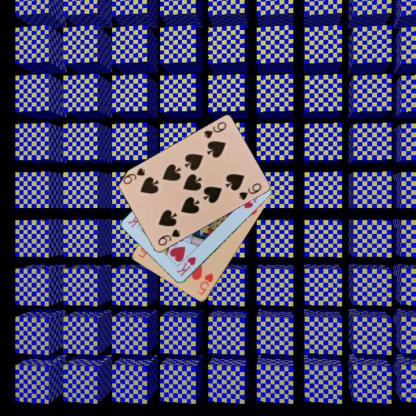5h: (195, 271, 214, 296)
9s: (201, 119, 228, 140), (155, 226, 181, 247)
Kh: (174, 254, 197, 278)
